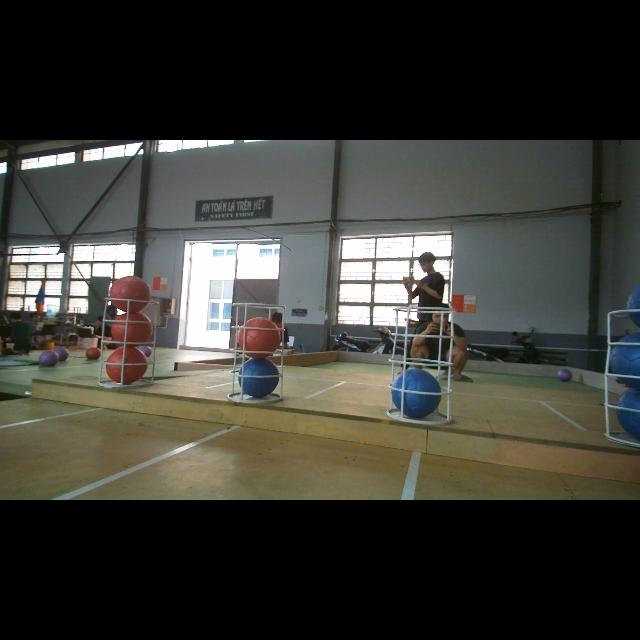B: (392, 368, 442, 418), (238, 358, 278, 398)
R: (239, 317, 281, 358), (105, 347, 147, 385), (110, 276, 152, 312), (111, 312, 153, 346)
